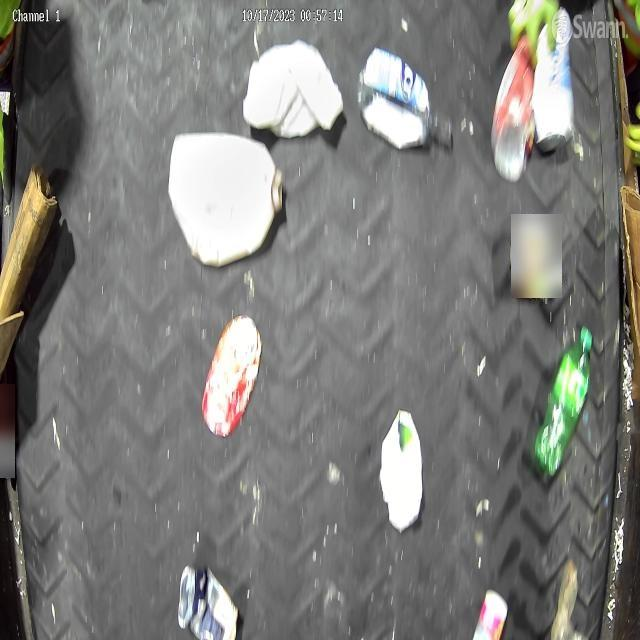milk_jug: (167, 132, 286, 266), (242, 39, 344, 138)
